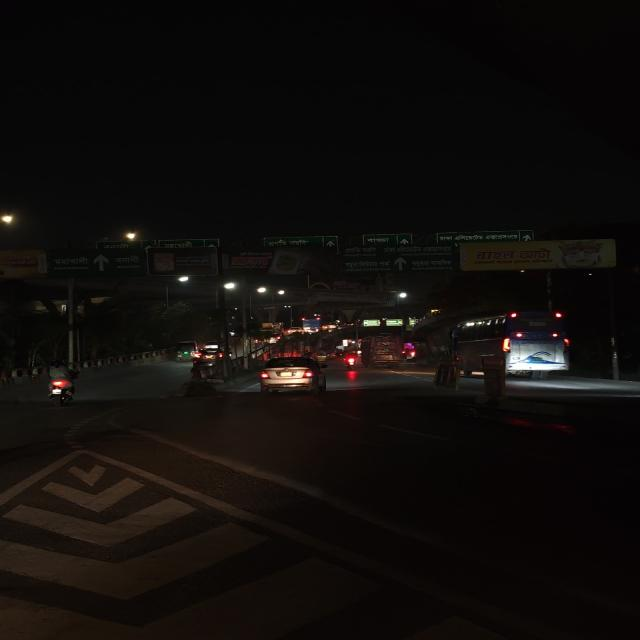bus: (444, 310, 578, 383), (361, 332, 409, 370)
car: (258, 355, 331, 393), (197, 348, 226, 362), (266, 331, 284, 344)
cng: (174, 338, 195, 362)
motorcycle: (34, 354, 83, 412), (341, 350, 361, 370)
truck: (300, 314, 325, 334)
